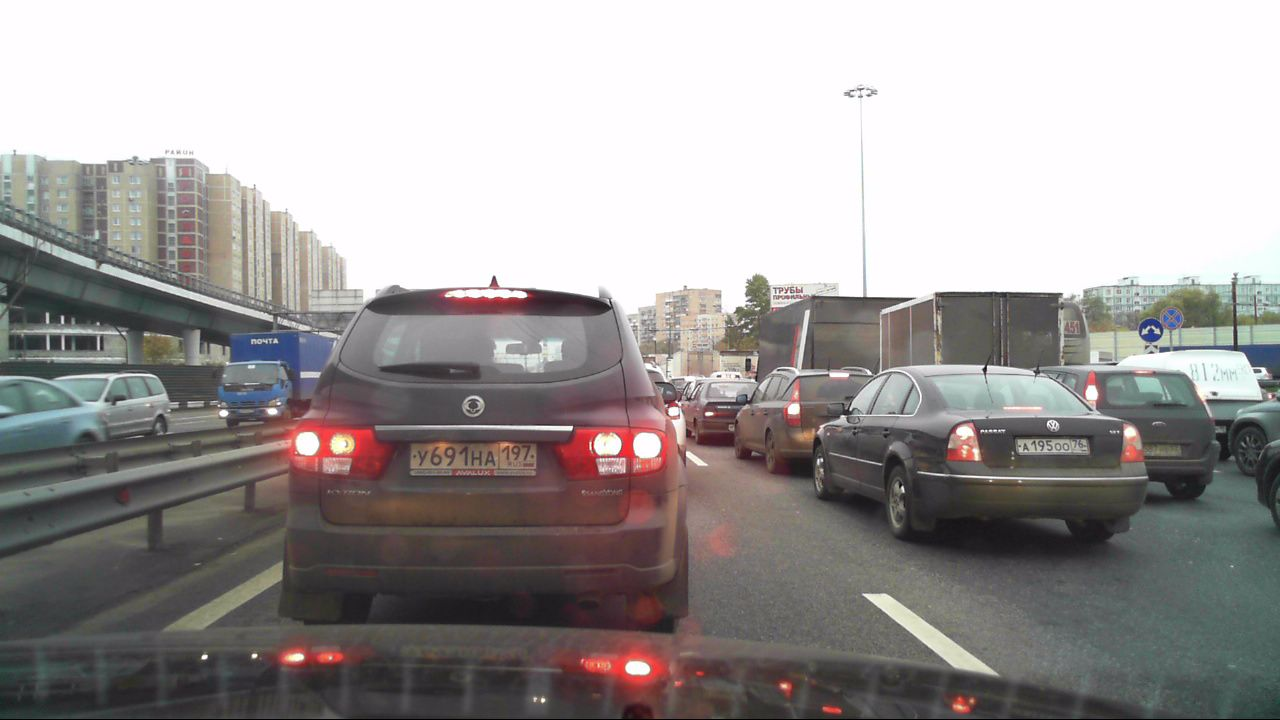No Parking: (1160, 305, 1183, 331)
